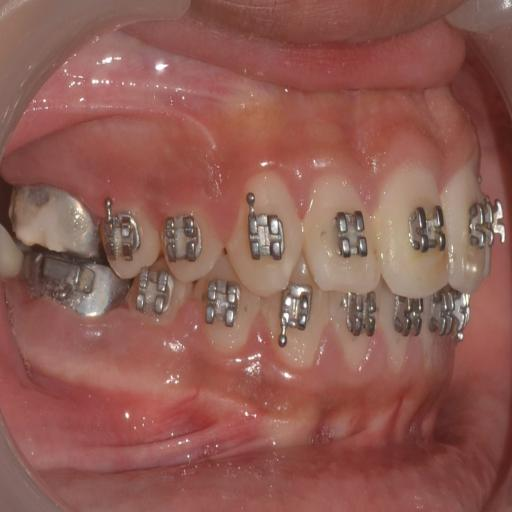correct_brace: (159, 196, 222, 280), (242, 184, 288, 270), (327, 201, 372, 265), (403, 198, 450, 259)
incorrect_brace: (304, 165, 380, 302), (163, 213, 204, 268)
